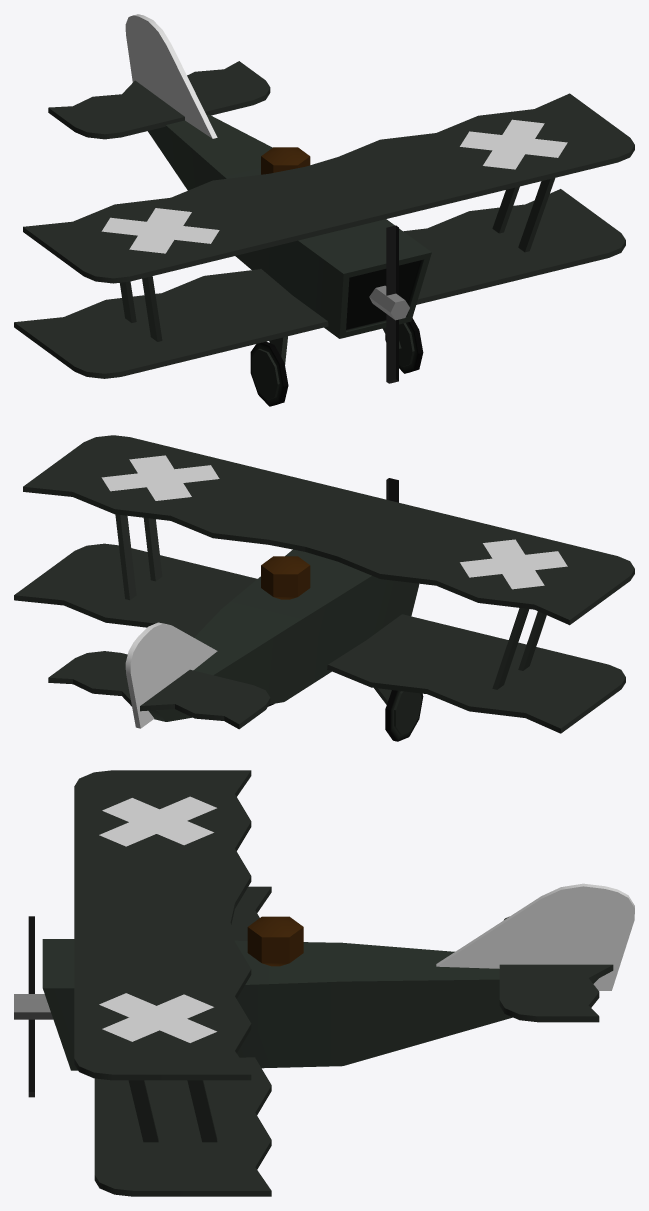
Rendered from enemy_fighter.glb.
3 views of the same model, one above another, from view 1: azimuth 30°, elevation 25°; view 2: azimuth 150°, elevation 25°; view 3: azimuth 270°, elevation 25° (orthographic). The views are drawn at different scales.
Visible parts, largest first — view 1: enemy_fighter, prop; view 2: enemy_fighter; view 3: enemy_fighter, prop.
Part boxes in pixels (x1,y1,x2,y2): enemy_fighter: [14, 14, 634, 406]; prop: [386, 225, 398, 383]; enemy_fighter: [14, 435, 634, 741]; enemy_fighter: [14, 770, 634, 1196]; prop: [28, 916, 34, 1097].
Size of the model in its own units: 11.15 by 4.5 by 9.61.
